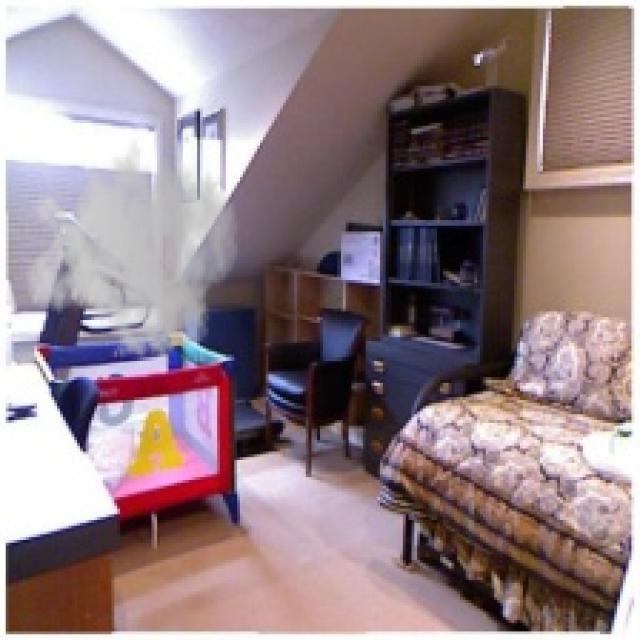Smoke: (23, 125, 240, 368)
